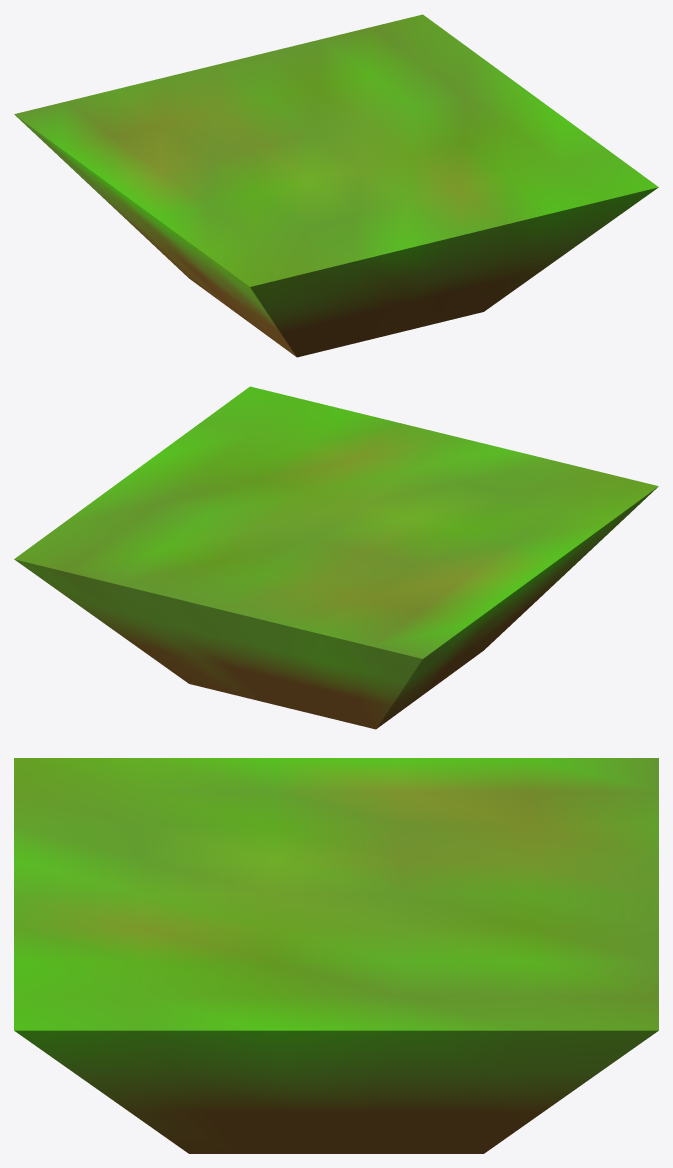
3 renders of one model, top to bottom at view 1: azimuth 30°, elevation 25°; view 2: azimuth 150°, elevation 25°; view 3: azimuth 270°, elevation 25°, orthographic. The views are drawn at different scales.
Visible parts, largest first — view 1: Base.003; view 2: Base.003; view 3: Base.003.
Boxes of the visible parts, x1,y1,x2,y2 form: Base.003: (14, 14, 658, 357); Base.003: (14, 386, 658, 729); Base.003: (14, 758, 658, 1153).
Bounding box in the file's own units: 14.36 × 4.85 × 14.36.
